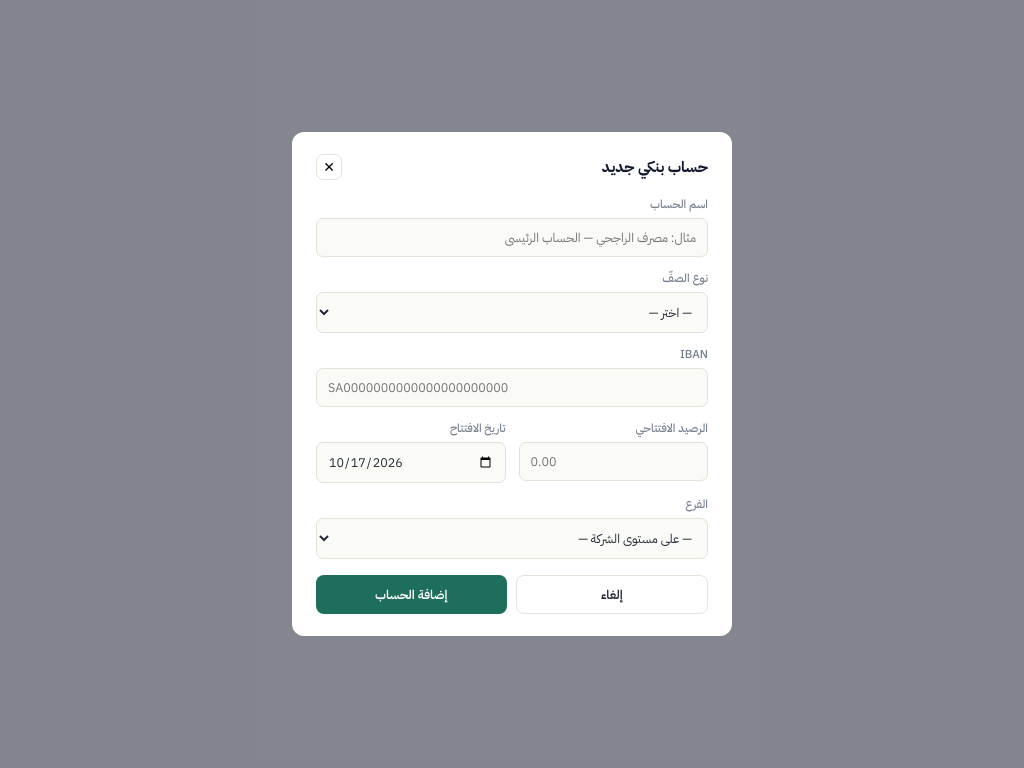
Scenario: نافذةُ الحساب البنكي — نوعُ الصفّ معلَن › الإنشاءُ بلا نوعٍ لا يُرسَل — ولو حمل آيباناً
Type "بنكٌ بآيبان" into the field with placeholder "مثال: مصرف الراجحي — الحساب الرئيسي" at [512, 238], box [316,218,708,257]
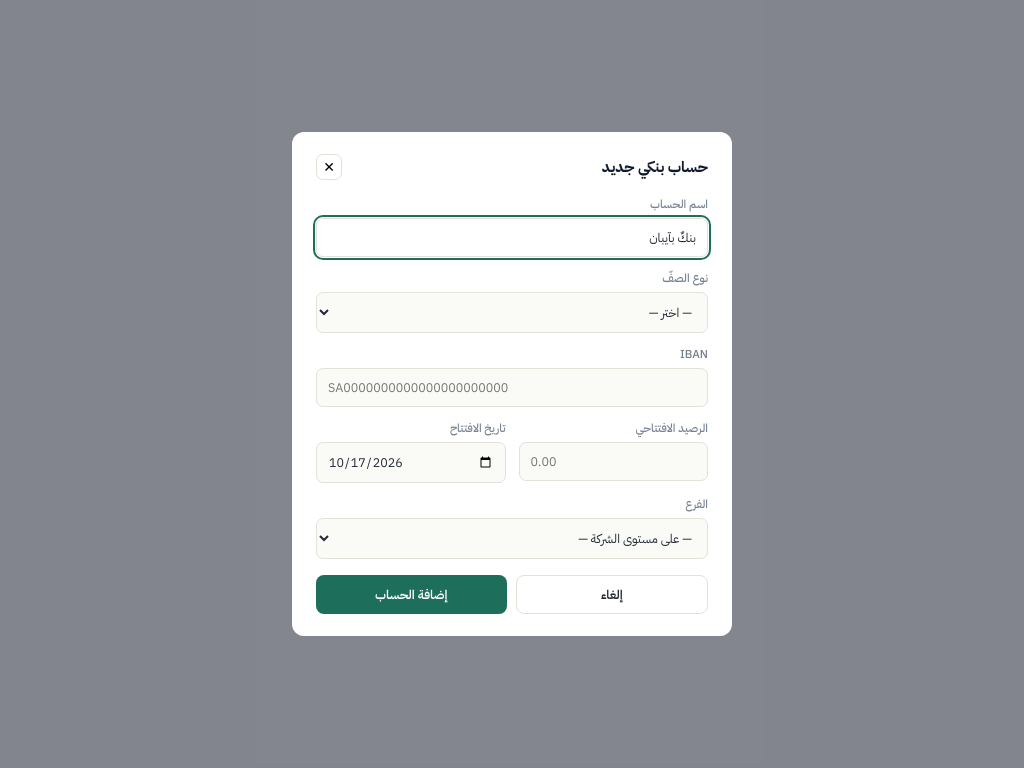
Type "SA0380000000608010167519" into the field with placeholder "SA0000000000000000000000" at [512, 388], box [316,368,708,407]
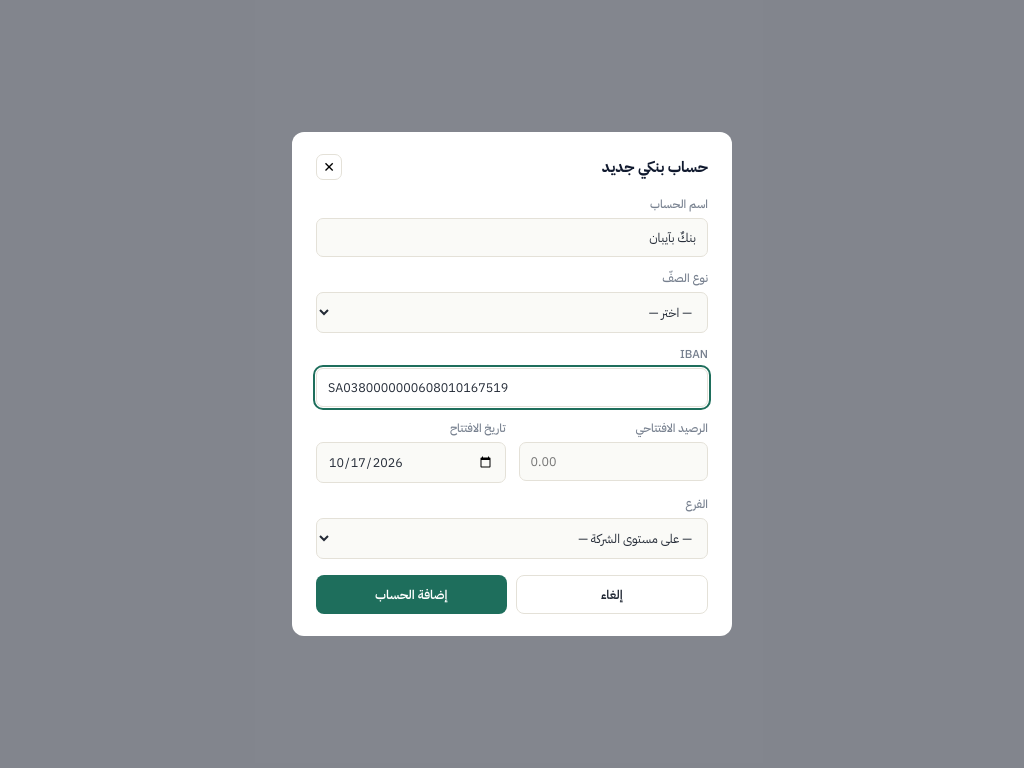
Click the button "إضافة الحساب" at [411, 594], box [316,575,506,614]
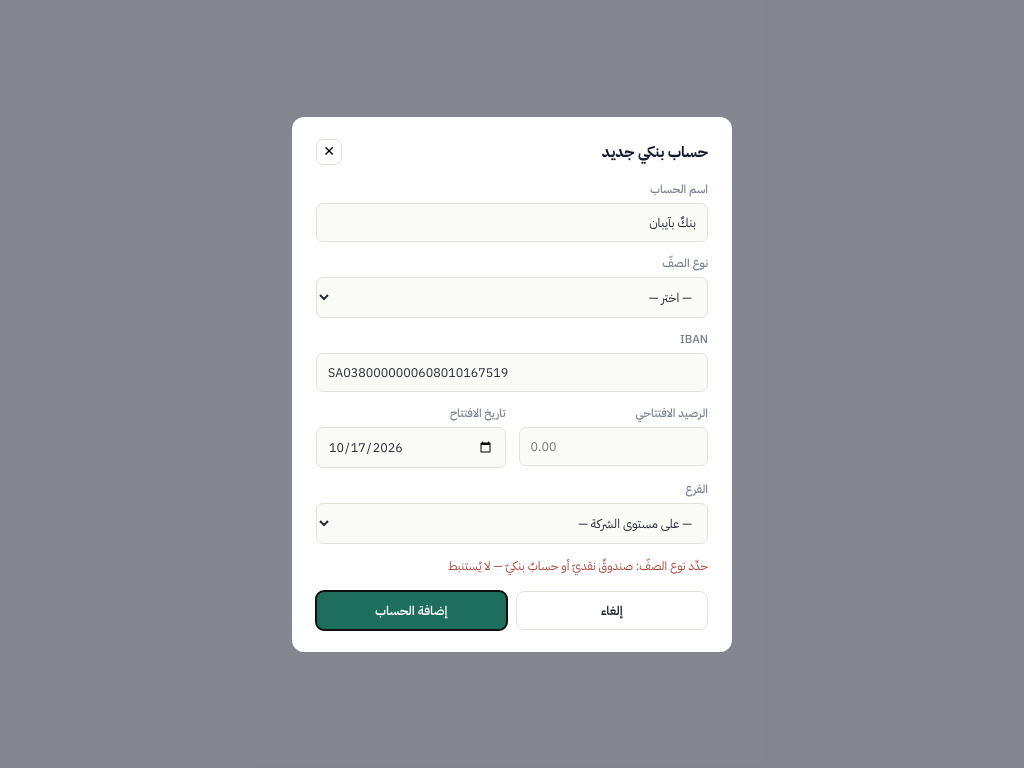
Result: the text "حدِّد نوع الصفّ: صندوقٌ نقديّ أو حسابٌ بنكيّ — لا يُستنبط" is shown at [448,556,708,574]
